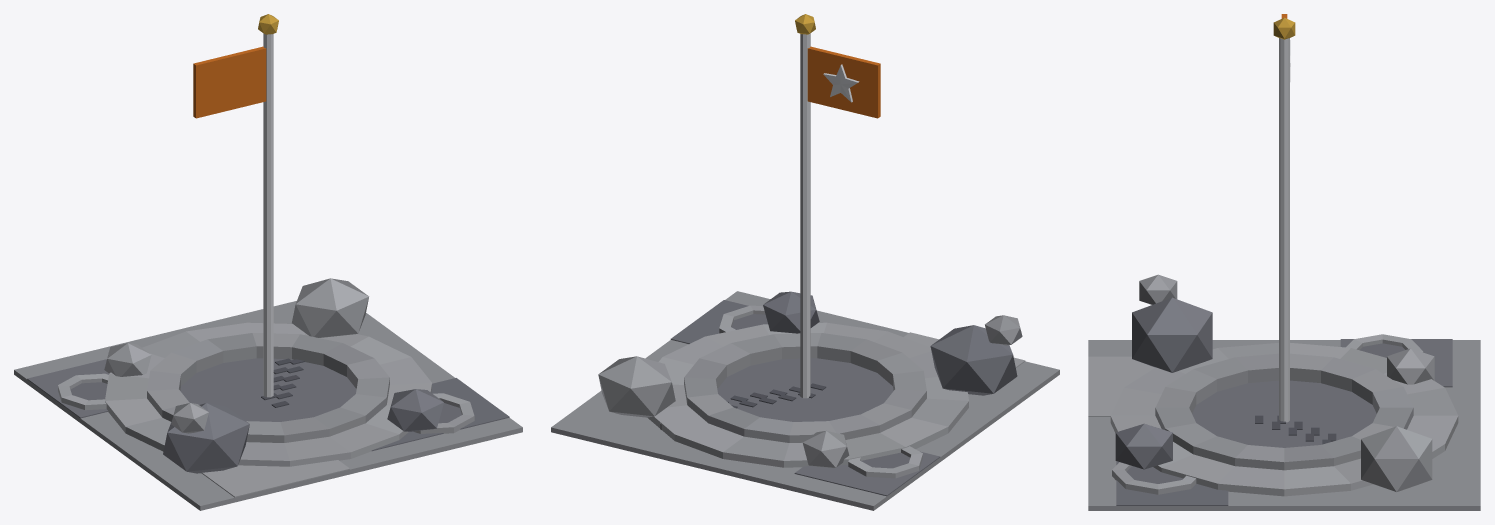
The model's file is Decor_LaunchPad_Crater.fbx.
3 views of the same model, side by side, from view 1: azimuth 30°, elevation 25°; view 2: azimuth 150°, elevation 25°; view 3: azimuth 270°, elevation 25° (orthographic). The views are drawn at different scales.
Parts seen in each view (by area): view 1: Crater_Body; view 2: Crater_Body; view 3: Crater_Body.
Part boxes in pixels (box(x1,y1,x2,y2)): Crater_Body: box(14, 14, 522, 510); Crater_Body: box(551, 14, 1059, 510); Crater_Body: box(1088, 14, 1480, 510).
Bounding box in the file's own units: 14 × 16.35 × 14.
